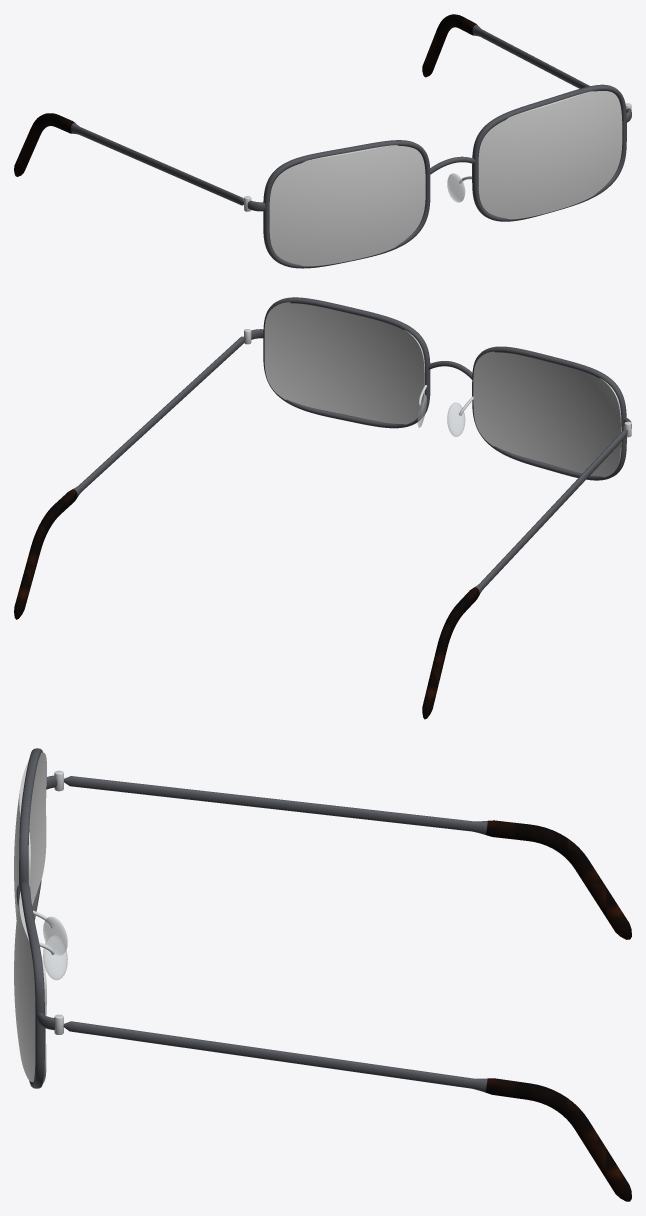
File: finn-s.glb
3 views of the same model, one above another, from view 1: azimuth 30°, elevation 25°; view 2: azimuth 150°, elevation 25°; view 3: azimuth 270°, elevation 25° (orthographic). The views are drawn at different scales.
Parts seen in each view (by area): view 1: Lens_R, Lens_L, Front, Temple_R, Temple_L, NosePads; view 2: Lens_L, Lens_R, Front, Temple_L, Temple_R, NosePads; view 3: Temple_L, Temple_R, Front, Lens_L, Lens_R, NosePads.
Boxes of the visible parts, x1,y1,x2,y2 form: Lens_R: [269, 145, 425, 266]; Lens_L: [478, 91, 622, 219]; Front: [244, 84, 631, 268]; Temple_R: [14, 113, 243, 205]; Temple_L: [422, 14, 589, 88]; NosePads: [447, 173, 465, 202]; Lens_L: [264, 302, 424, 424]; Lens_R: [473, 351, 621, 477]; Front: [244, 297, 631, 480]; Temple_L: [14, 336, 245, 619]; Temple_R: [422, 430, 627, 719]; NosePads: [417, 395, 465, 436]; Temple_L: [63, 1021, 631, 1201]; Temple_R: [64, 776, 631, 939]; Front: [16, 748, 63, 1088]; Lens_L: [14, 886, 46, 1083]; Lens_R: [14, 752, 46, 919]; NosePads: [43, 916, 67, 980].
Bounding box in the file's own units: 0.1398 × 0.0548 × 0.1367.
6 materials, 1 textured.
